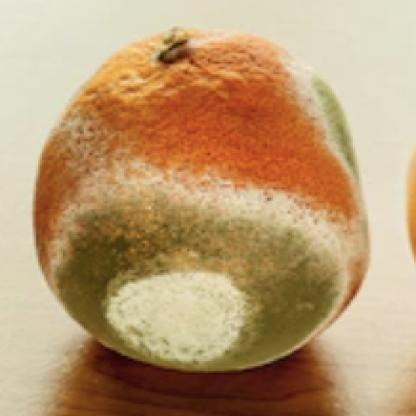rotten: (36, 26, 373, 377)
